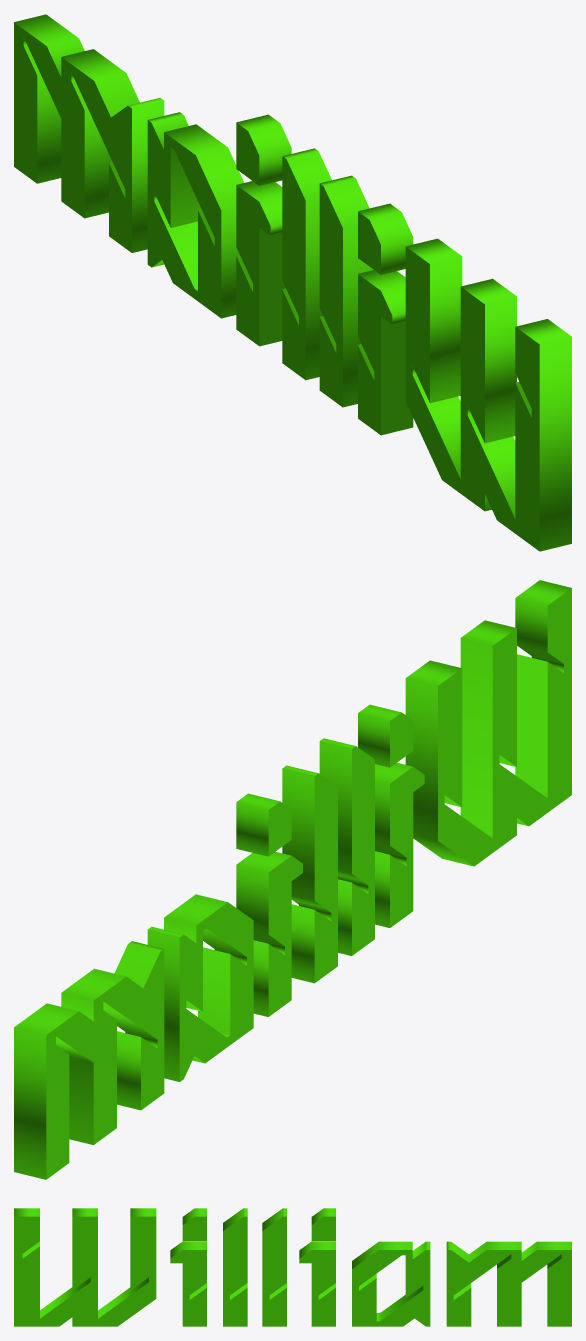
File: William.glb
The picture shows the model from 3 angles, top to bottom: view 1: azimuth 30°, elevation 25°; view 2: azimuth 150°, elevation 25°; view 3: azimuth 270°, elevation 25°; orthographic projection. The views are drawn at different scales.
Visible parts, largest first — view 1: Text; view 2: Text; view 3: Text.
Part boxes in pixels (x1,y1,x2,y2): Text: (14,14,571,551); Text: (14,580,571,1179); Text: (14,1208,571,1326).
Size of the model in its own units: 0.1 by 0.6141 by 2.83.
